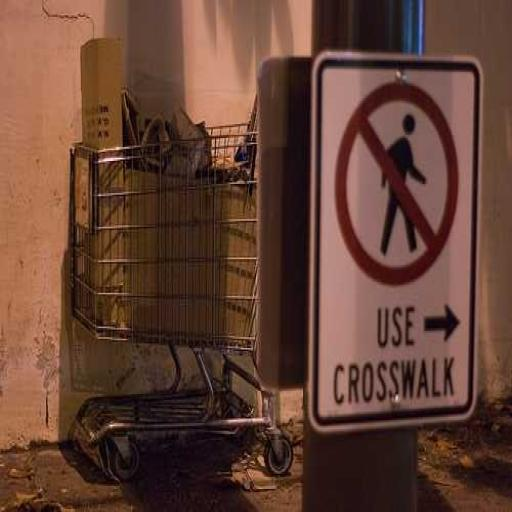shopping_cart: (70, 116, 296, 484)
